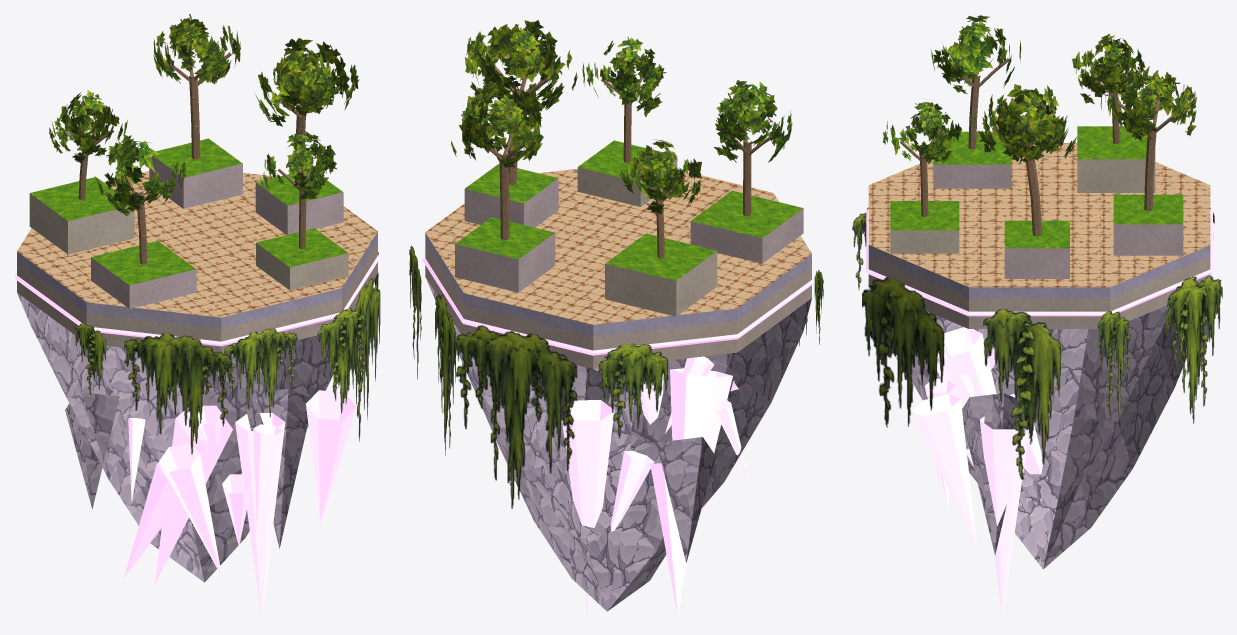
Rendered from SKY_ISLAND_03.glb.
The picture shows the model from 3 angles, left to right: view 1: azimuth 30°, elevation 25°; view 2: azimuth 150°, elevation 25°; view 3: azimuth 270°, elevation 25°; orthographic projection. The views are drawn at different scales.
Visible parts, largest first — view 1: S_Small07_Skin.001, S_Small07_Trees.001, S_Small07_Crystals.001, S_Small07_Moss.001; view 2: S_Small07_Skin.001, S_Small07_Trees.001, S_Small07_Moss.001, S_Small07_Crystals.001; view 3: S_Small07_Skin.001, S_Small07_Moss.001, S_Small07_Trees.001, S_Small07_Crystals.001.
Boxes of the visible parts, bbox=[...] form: S_Small07_Skin.001: bbox=[14, 138, 380, 582]; S_Small07_Trees.001: bbox=[49, 14, 359, 264]; S_Small07_Crystals.001: bbox=[124, 390, 356, 619]; S_Small07_Moss.001: bbox=[75, 252, 380, 454]; S_Small07_Skin.001: bbox=[422, 140, 814, 611]; S_Small07_Trees.001: bbox=[451, 20, 792, 258]; S_Small07_Moss.001: bbox=[409, 246, 823, 508]; S_Small07_Crystals.001: bbox=[562, 356, 775, 619]; S_Small07_Skin.001: bbox=[866, 126, 1212, 569]; S_Small07_Moss.001: bbox=[852, 207, 1222, 479]; S_Small07_Trees.001: bbox=[882, 15, 1196, 236]; S_Small07_Crystals.001: bbox=[911, 327, 1042, 620].
Bounding box in the file's own units: 12.31 × 20.22 × 12.02.
Materials: 9 (7 with a texture image).
